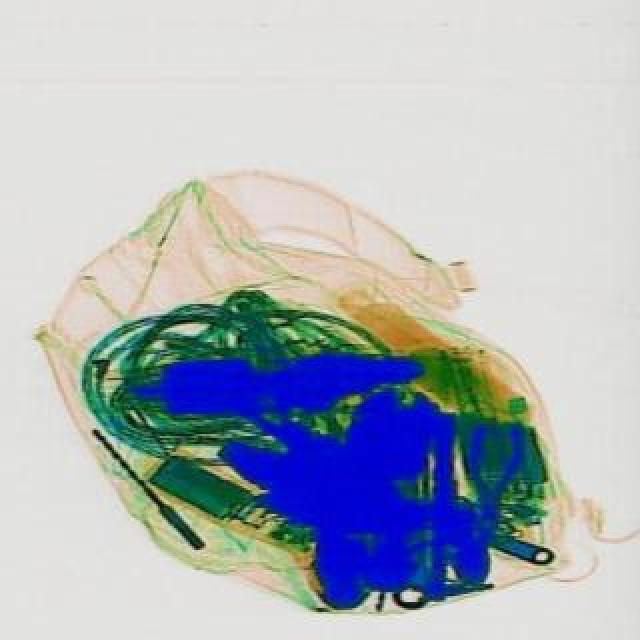wrench: (464, 420, 532, 532)
